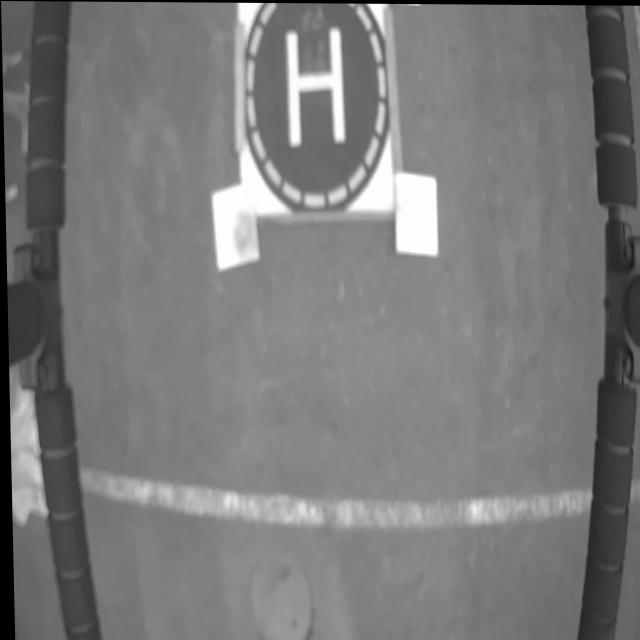Helipad: (283, 24, 345, 144)
